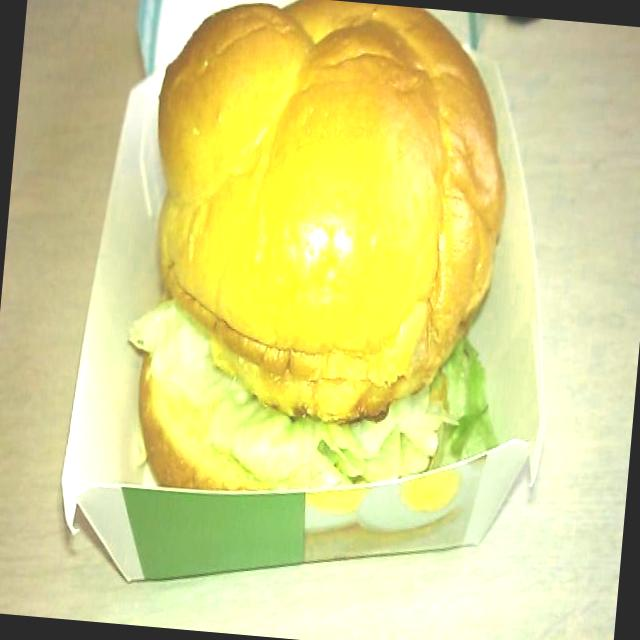Hamburger: (104, 0, 545, 540)
